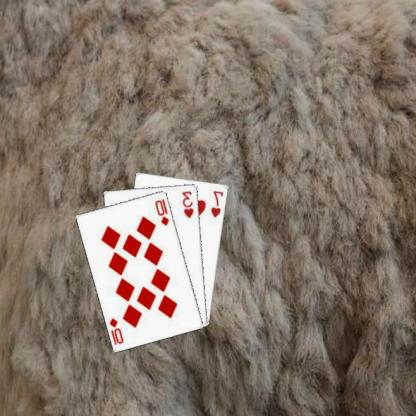10D: (154, 196, 172, 226), (109, 315, 126, 346)
3H: (182, 188, 196, 219)
7H: (210, 188, 226, 219)
